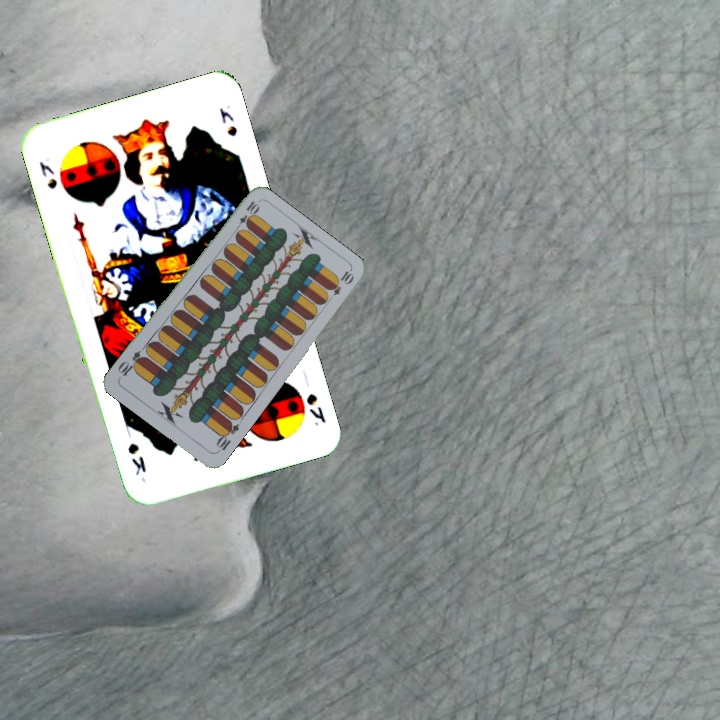E10: (231, 197, 261, 234), (212, 417, 241, 455)
SK: (302, 389, 329, 429), (35, 157, 60, 192)
